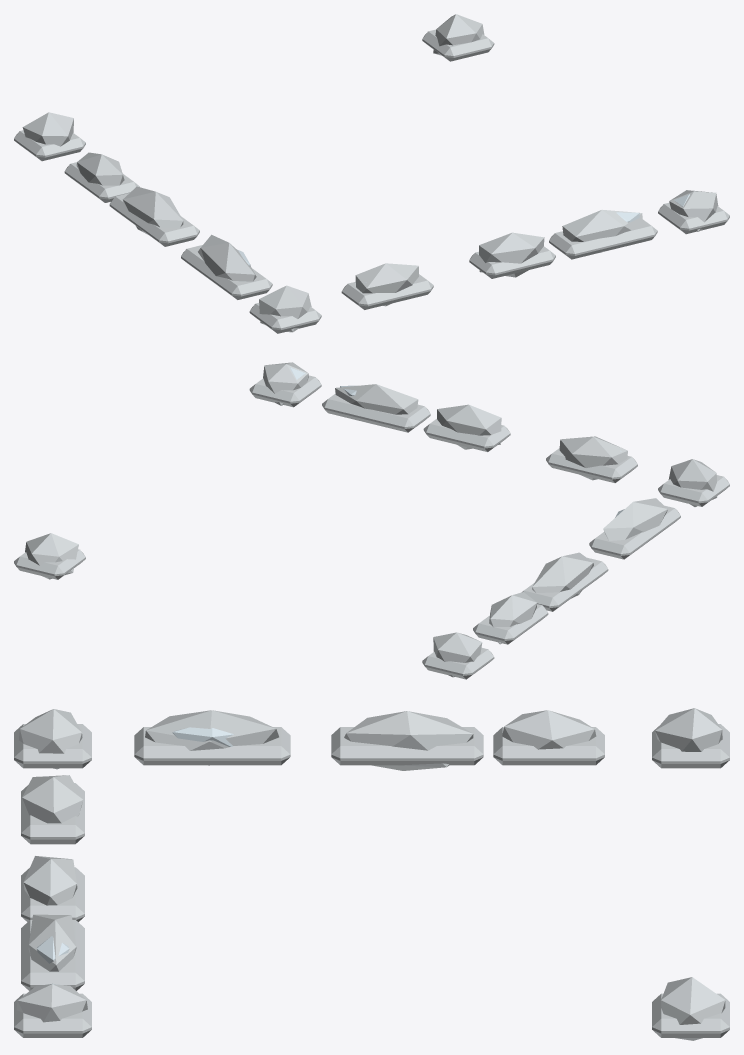
Rendered from snow_overlay_path_corner.glb.
The picture shows the model from 3 angles, top to bottom: view 1: azimuth 30°, elevation 25°; view 2: azimuth 150°, elevation 25°; view 3: azimuth 270°, elevation 25°; orthographic projection. The views are drawn at different scales.
Visible parts, largest first — view 1: snow_overlay_path_corner; view 2: snow_overlay_path_corner; view 3: snow_overlay_path_corner.
Boxes of the visible parts, left/top/right/bottom form: snow_overlay_path_corner: left=14, top=14, right=729, bottom=333; snow_overlay_path_corner: left=14, top=362, right=729, bottom=679; snow_overlay_path_corner: left=14, top=708, right=729, bottom=1040.
Bounding box in the file's own units: 2.02 × 0.1994 × 2.02.
